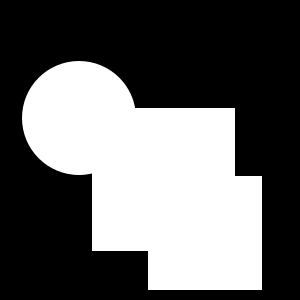circle: (92, 108, 235, 251), (148, 176, 262, 290)
rectangle: (22, 61, 136, 175)
